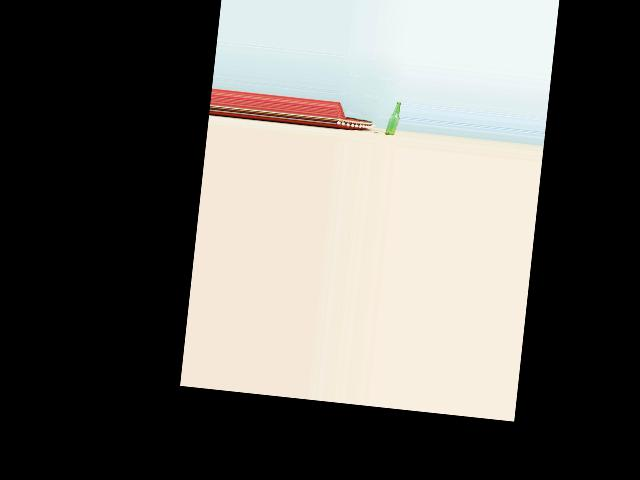beer: (385, 100, 401, 136)
